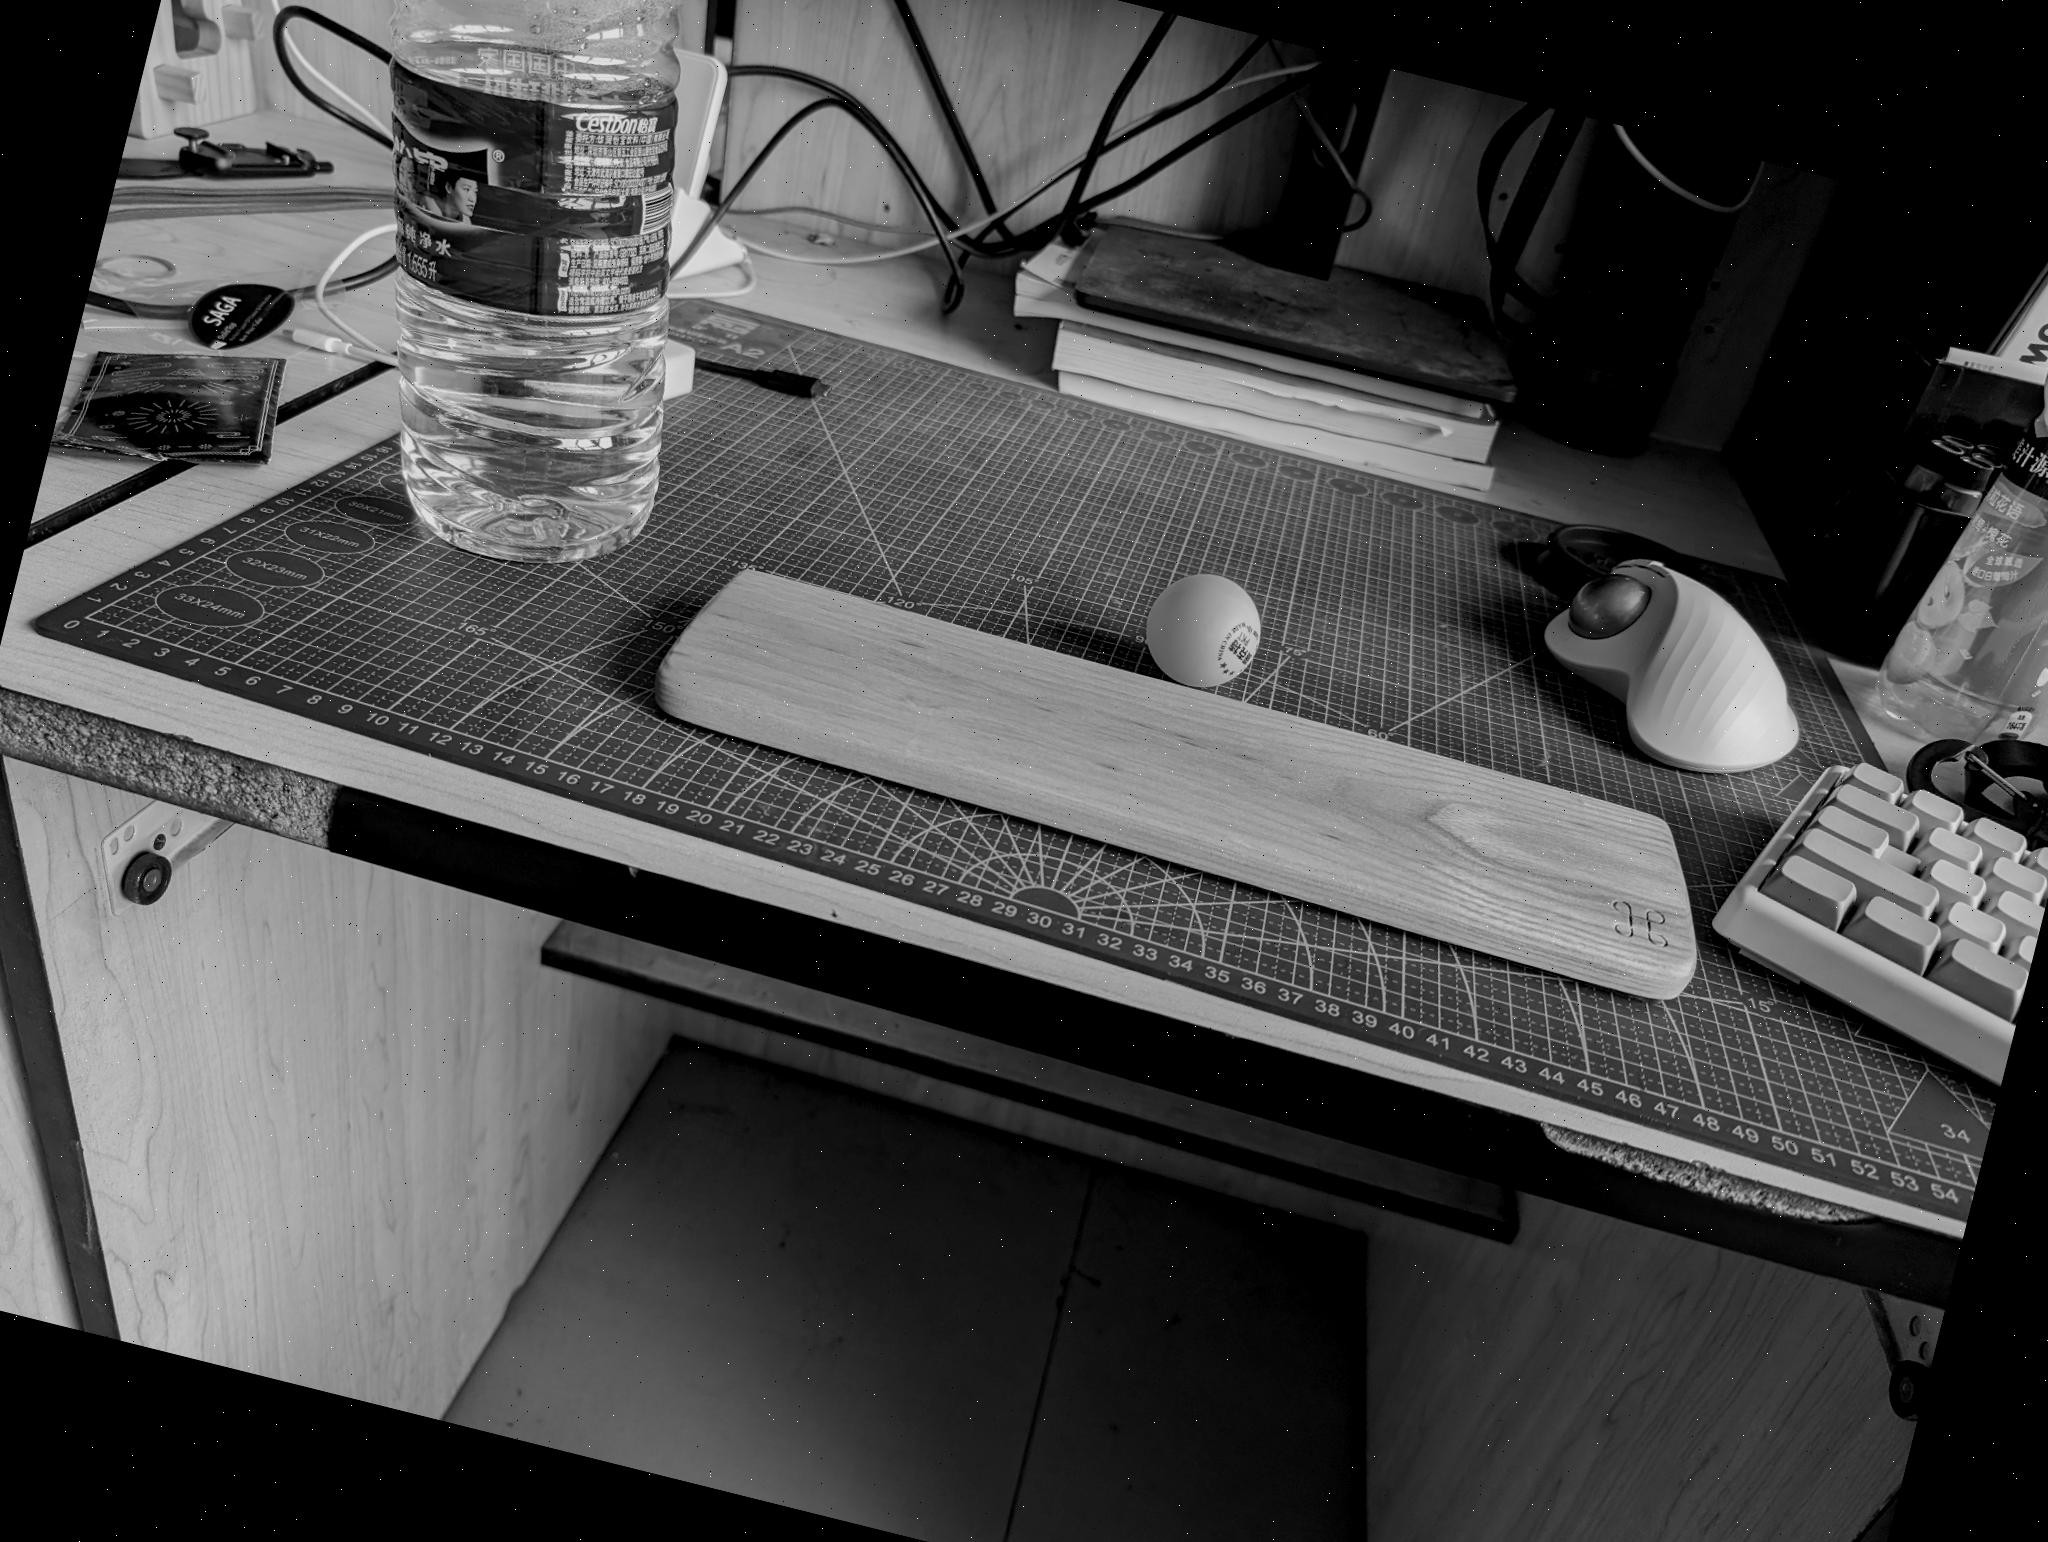ball: (1133, 559, 1274, 698)
